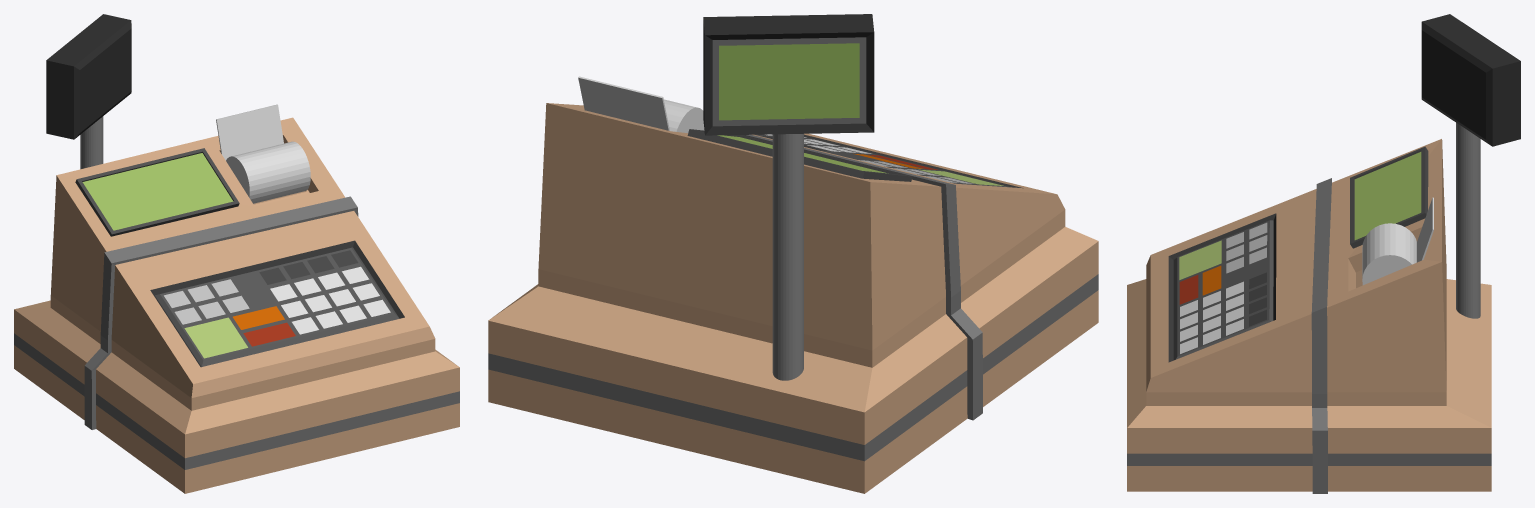
The model's file is Cash Register #1.fbx.
3 renders of one model, left to right at view 1: azimuth 30°, elevation 25°; view 2: azimuth 150°, elevation 25°; view 3: azimuth 270°, elevation 25°, orthographic. The views are drawn at different scales.
Parts seen in each view (by area): view 1: Cash Register #1; view 2: Cash Register #1; view 3: Cash Register #1.
Part boxes in pixels (x1,y1,x2,y2): Cash Register #1: (14, 14, 459, 493); Cash Register #1: (488, 14, 1098, 493); Cash Register #1: (1127, 14, 1520, 493).
Size of the model in its own units: 54.01 by 58.28 by 60.93.
2 materials, 2 textured.
